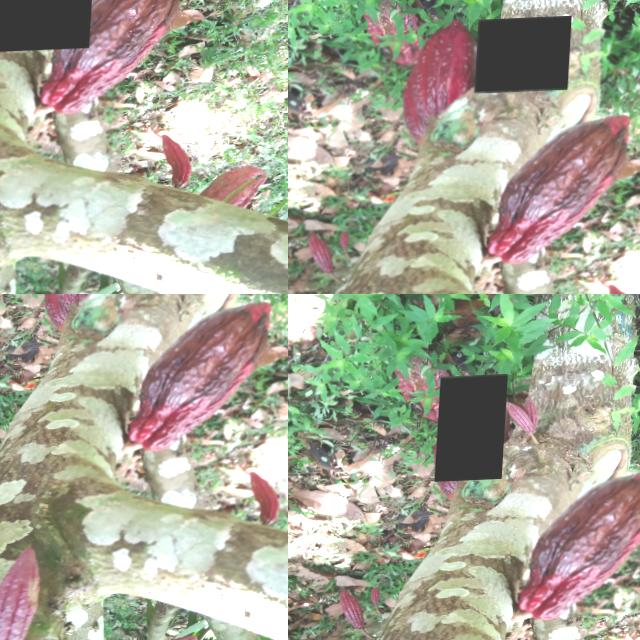Fitoftora: (288, 26, 640, 294), (68, 294, 288, 597), (517, 472, 640, 621)
Sana: (0, 6, 133, 294), (438, 376, 510, 484), (324, 121, 411, 206), (477, 19, 573, 96), (504, 405, 537, 438), (340, 589, 367, 629), (373, 587, 386, 606)
